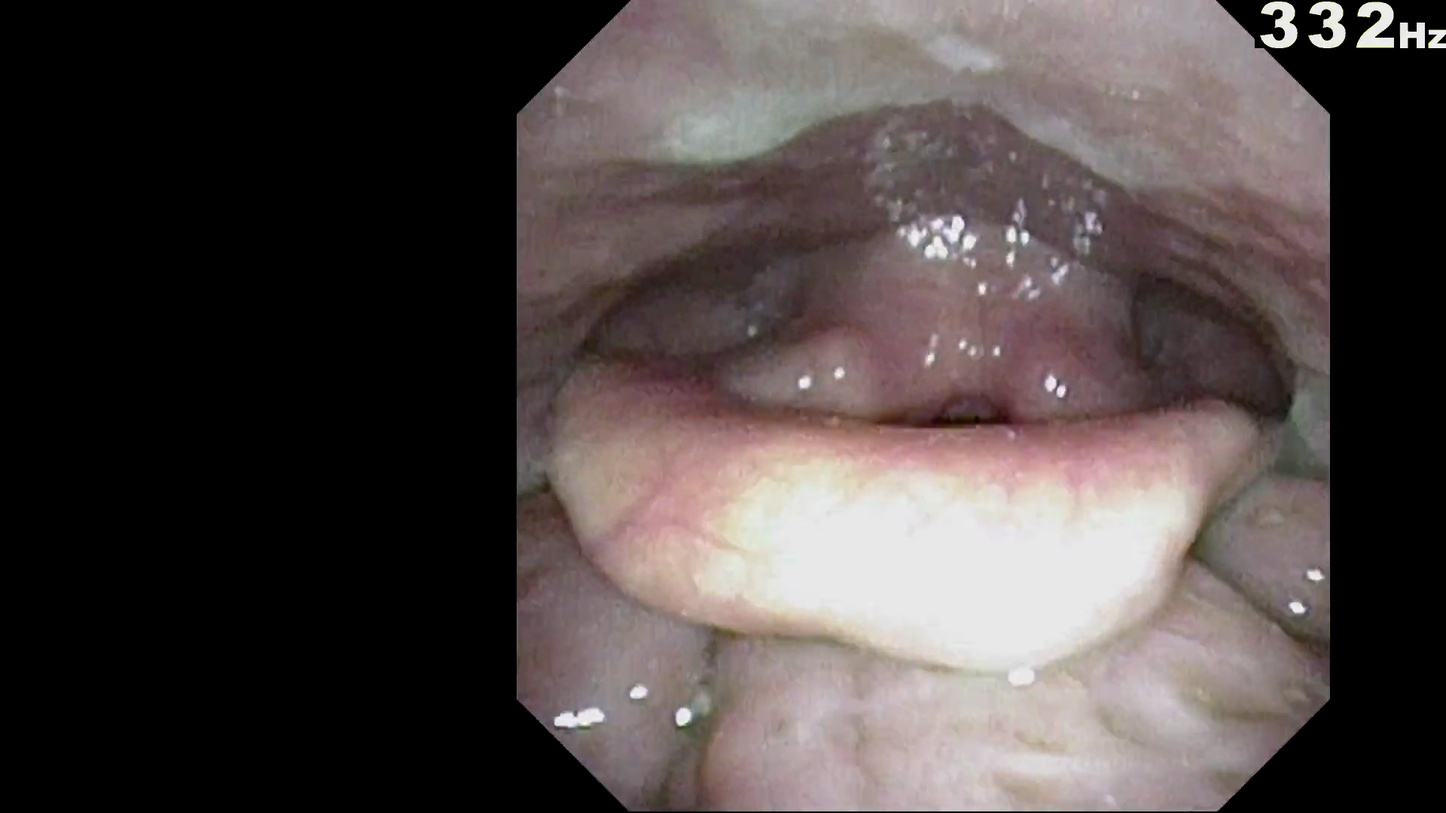epiglottis: (616, 310, 1228, 499)
